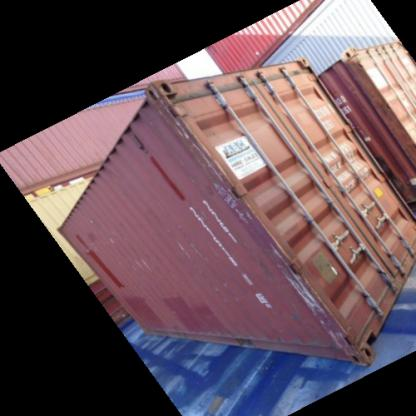Damage: (277, 262, 333, 330), (152, 83, 188, 144), (190, 142, 228, 189), (173, 230, 200, 266), (134, 254, 164, 282), (93, 228, 119, 250), (204, 277, 238, 287), (80, 212, 97, 229)
